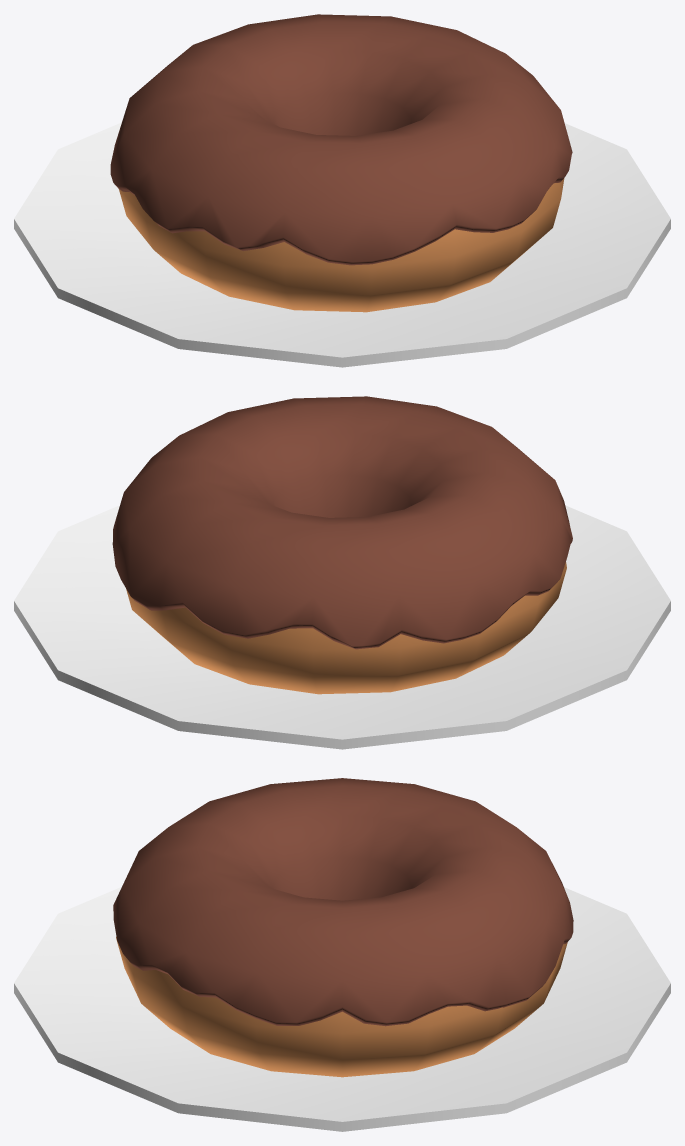
File: DonutSocola.fbx
3 renders of one model, top to bottom at view 1: azimuth 30°, elevation 25°; view 2: azimuth 150°, elevation 25°; view 3: azimuth 270°, elevation 25°, orthographic.
Visible parts, largest first — view 1: Map02_Donut_LV1; view 2: Map02_Donut_LV1; view 3: Map02_Donut_LV1.
Part boxes in pixels (bbox=[...]): Map02_Donut_LV1: bbox=[14, 14, 670, 367]; Map02_Donut_LV1: bbox=[14, 396, 670, 749]; Map02_Donut_LV1: bbox=[14, 778, 670, 1131].
Size of the model in its own units: 105 by 33.49 by 105.
